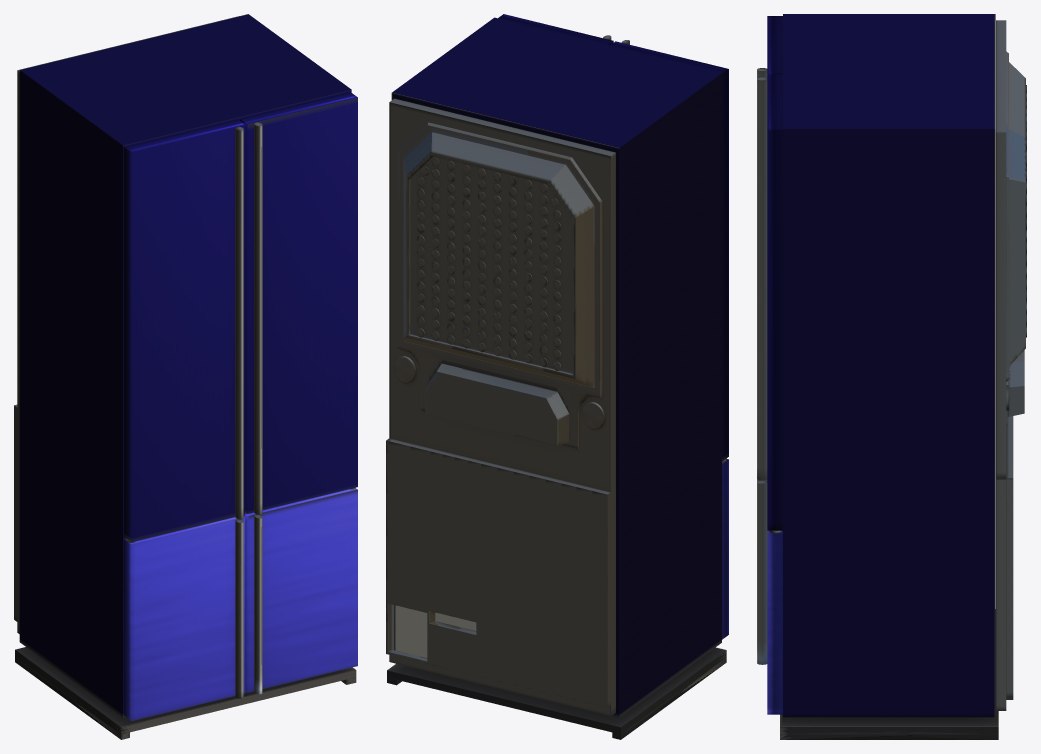
Rendered from fridge_blue.glb.
3 views of the same model, side by side, from view 1: azimuth 30°, elevation 25°; view 2: azimuth 150°, elevation 25°; view 3: azimuth 270°, elevation 25° (orthographic). The views are drawn at different scales.
Parts seen in each view (by area): view 1: back_body3; view 2: back_body3; view 3: back_body3.
Part boxes in pixels (left/top/right/bottom): back_body3: left=14, top=14, right=357, bottom=739; back_body3: left=386, top=14, right=728, bottom=739; back_body3: left=757, top=14, right=1026, bottom=739.
Size of the model in its own units: 0.669 by 1.61 by 0.647.
Materials: 1 (1 with a texture image).
